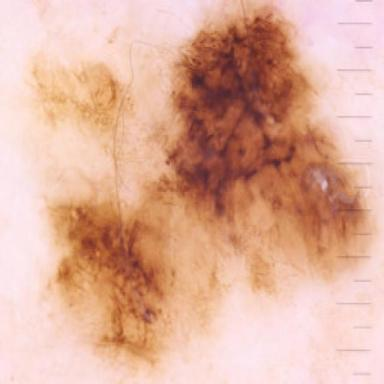Melanoma: (45, 6, 338, 369), (32, 63, 119, 131)
